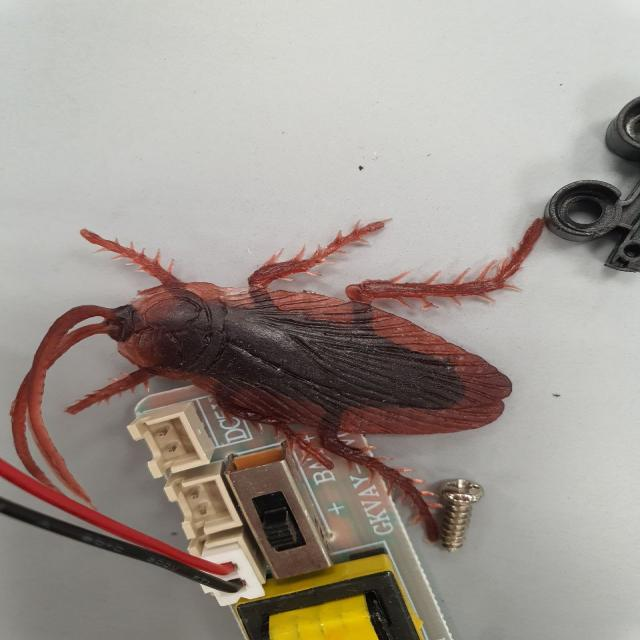Cockroach: (7, 200, 546, 552)
